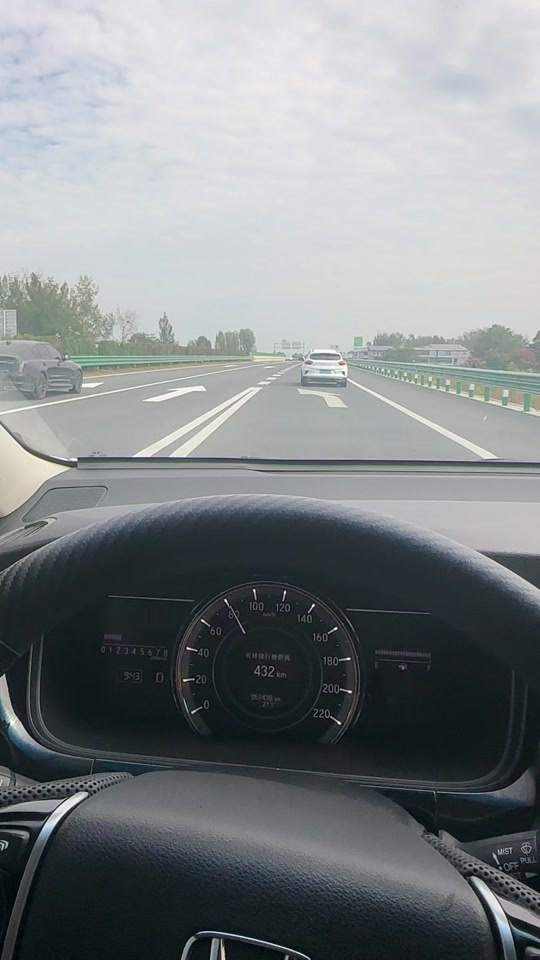lane: (344, 383, 505, 465), (143, 390, 268, 457), (5, 395, 114, 420), (261, 365, 298, 388)
